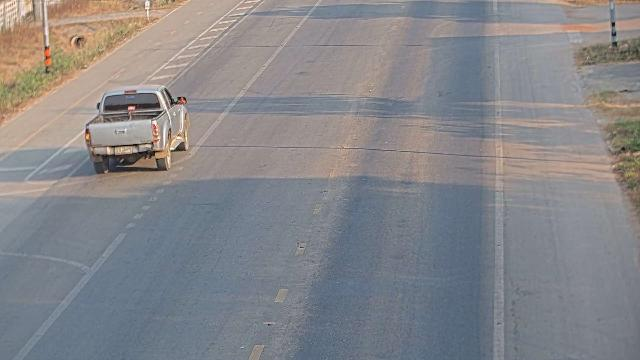pickup-truck: (84, 84, 190, 174)
